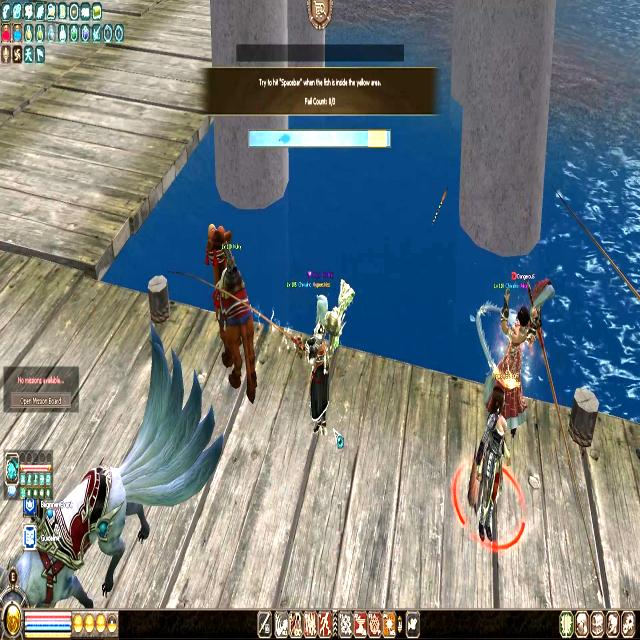fishes: (278, 132, 291, 144)
